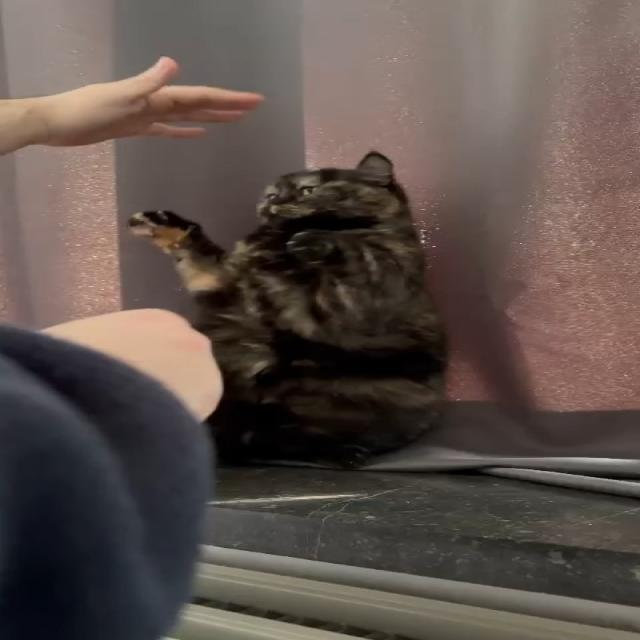authorized: (127, 150, 449, 470)
